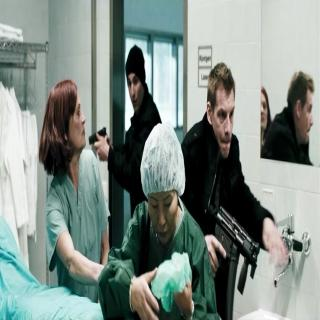gun: (204, 184, 261, 319), (87, 118, 108, 158)
